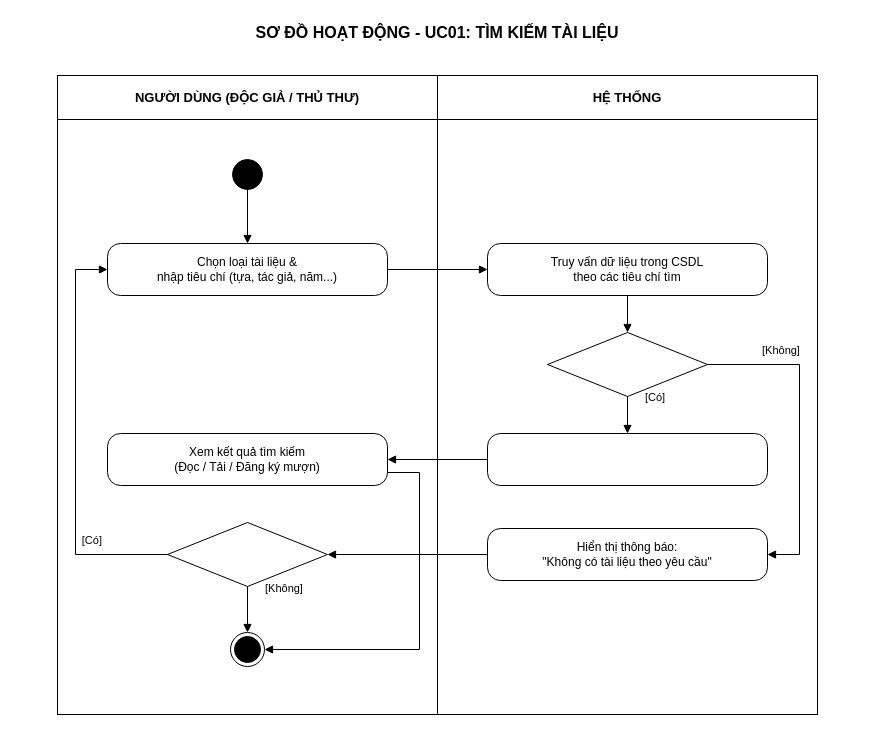
This 874x732 diagram has some shape labels left out. The centre of each missing label's shape, as x and y in pixels:
"Hiển thị danh sách kết quả & thông tin chi tiết tài liệu" goes at [627,459].
"Tìm thấy tài liệu phù hợp?" goes at [627,364].
"Đổi tiêu chí tìm tiếp?" goes at [247,554].
